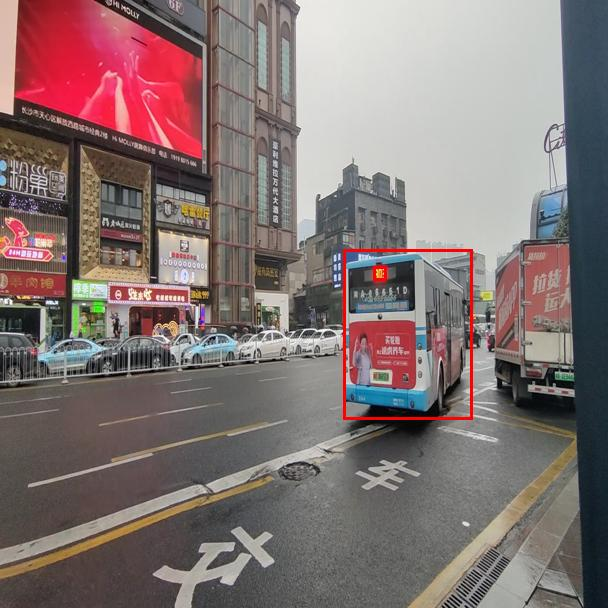bus: (343, 249, 472, 419)
screen: (373, 266, 386, 280)
